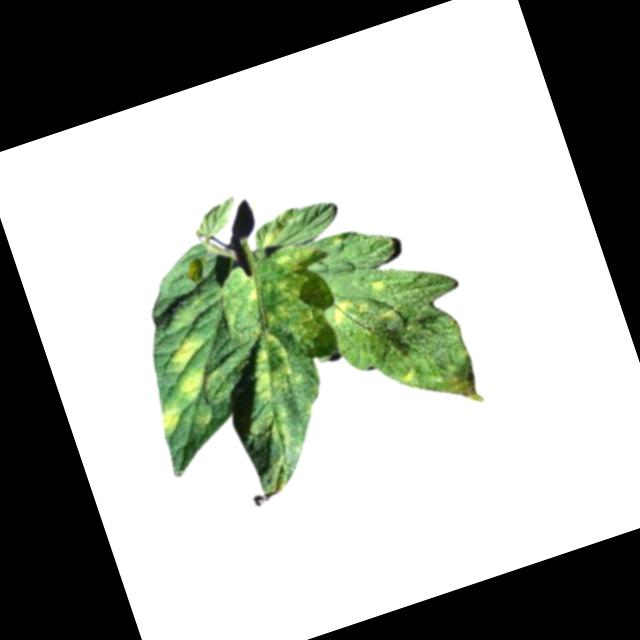Leaf_Mold: (248, 237, 351, 361), (238, 325, 312, 408), (165, 328, 229, 407), (247, 399, 306, 460), (433, 355, 487, 415), (329, 290, 373, 328), (153, 403, 184, 439), (366, 275, 391, 300), (400, 364, 423, 391)
